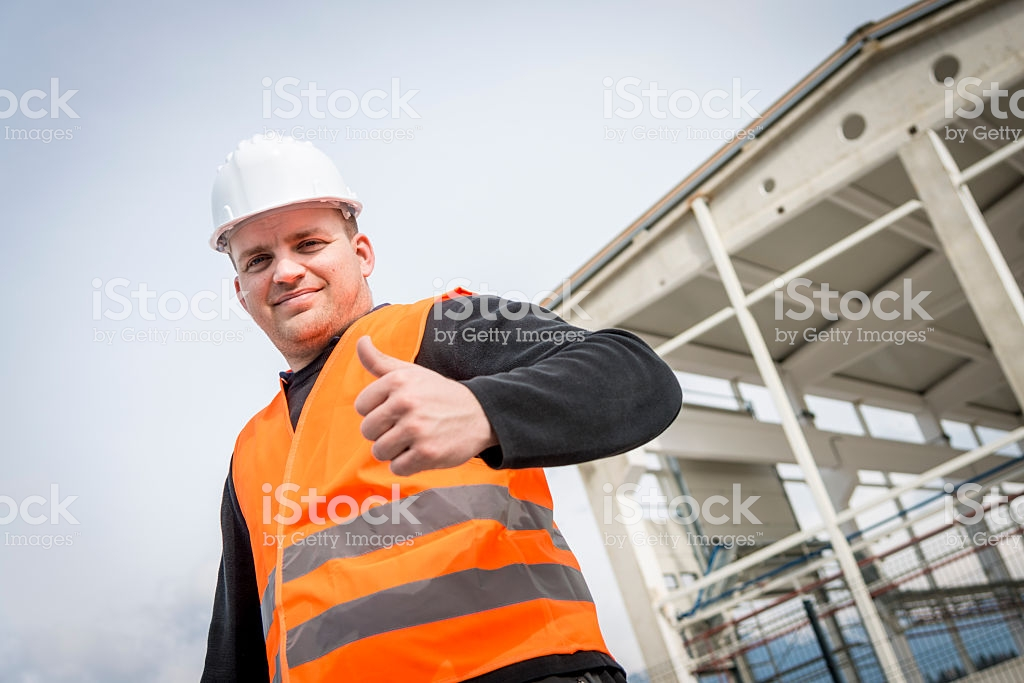thumbsup: (353, 333, 449, 478)
